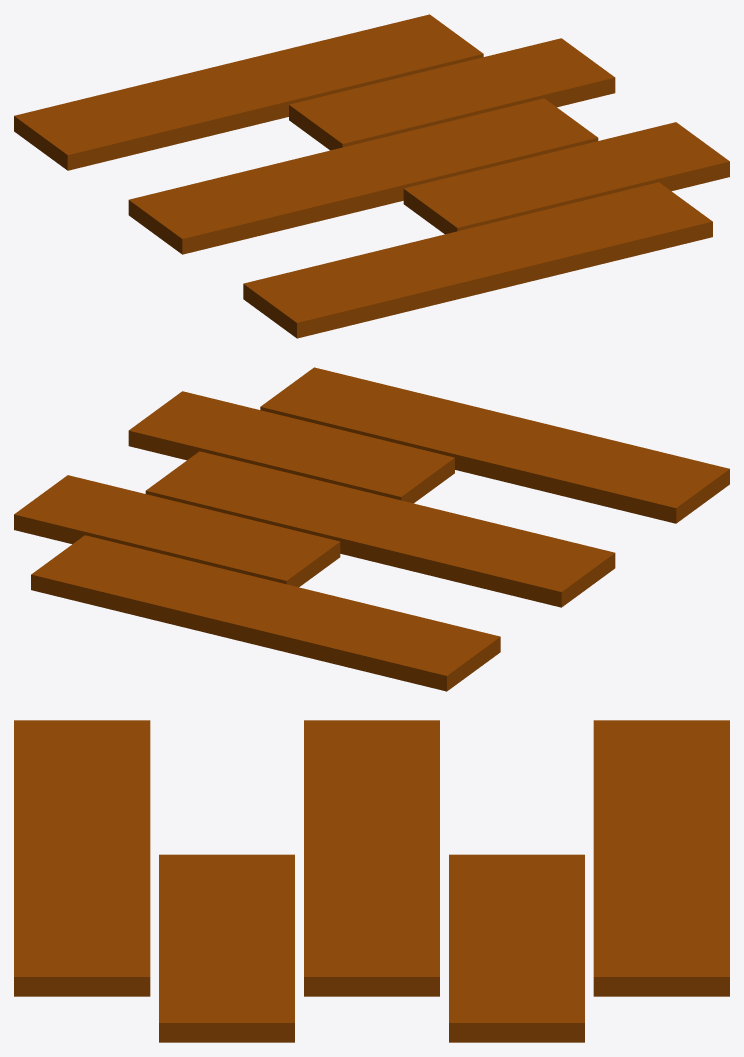
The model's file is RPG_Tiles_Square_Wooden_Boards_14.FBX.
The picture shows the model from 3 angles, top to bottom: view 1: azimuth 30°, elevation 25°; view 2: azimuth 150°, elevation 25°; view 3: azimuth 270°, elevation 25°; orthographic projection. The views are drawn at different scales.
Visible parts, largest first — view 1: RPG_Tiles_Square_Wooden_Boards_14; view 2: RPG_Tiles_Square_Wooden_Boards_14; view 3: RPG_Tiles_Square_Wooden_Boards_14.
Boxes of the visible parts, bbox=[...] form: RPG_Tiles_Square_Wooden_Boards_14: bbox=[14, 14, 729, 338]; RPG_Tiles_Square_Wooden_Boards_14: bbox=[14, 367, 729, 691]; RPG_Tiles_Square_Wooden_Boards_14: bbox=[14, 720, 729, 1042].
Bounding box in the file's own units: 2964 × 90 × 2964.
